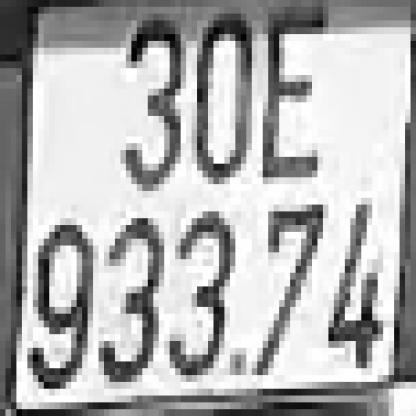0: (197, 14, 246, 184)
3: (121, 20, 186, 191), (104, 211, 159, 375), (175, 205, 225, 375)
4: (323, 198, 383, 368)
7: (252, 204, 317, 362)
9: (27, 218, 98, 382)
E: (257, 7, 323, 184)
